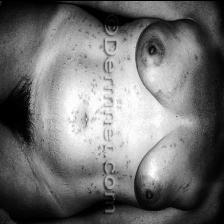Non-Cancerous Skin Condition: (68, 76, 102, 140), (115, 134, 133, 186), (86, 180, 100, 194)
